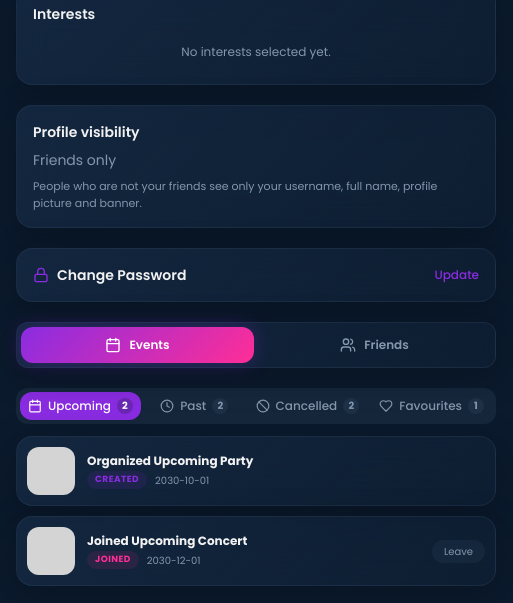
Test case: ProfilePage: Events / Friends tabs and event sub-tabs › Cancelled tab shows organized and joined cancelled events only
The width and height of the screenshot is (513, 603).
(page scrolled)
Expected: the text "Organized Upcoming Party" is shown, [87, 452, 253, 469]
Step 1. Click the button with test id "tab-cancelled" → {"x": 307, "y": 406}, box [248, 392, 367, 420]
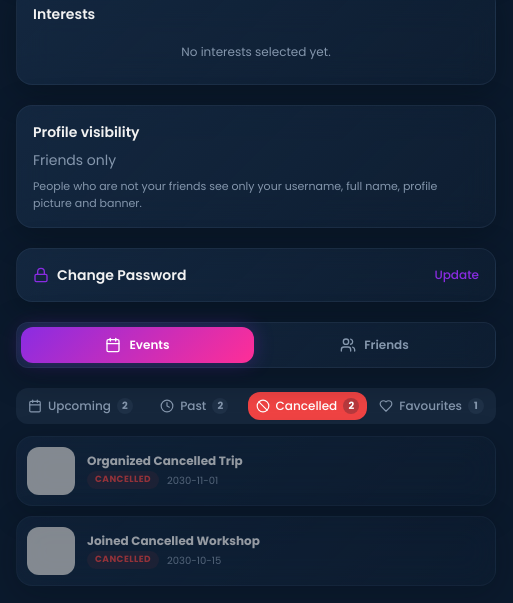
Result: the text "Organized Cancelled Trip" is shown at [87, 452, 243, 469]
Result: the text "Joined Cancelled Workshop" is shown at [87, 532, 260, 549]
Result: the text "Organized Upcoming Party" is gone
